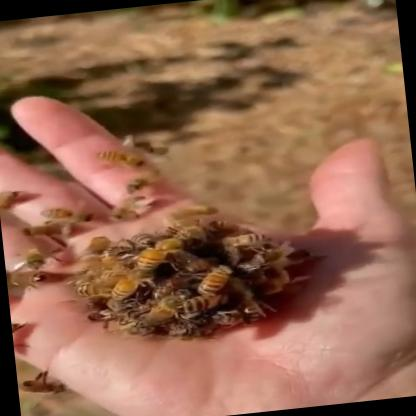bee: (49, 189, 334, 359), (0, 175, 95, 408), (46, 119, 238, 218)
